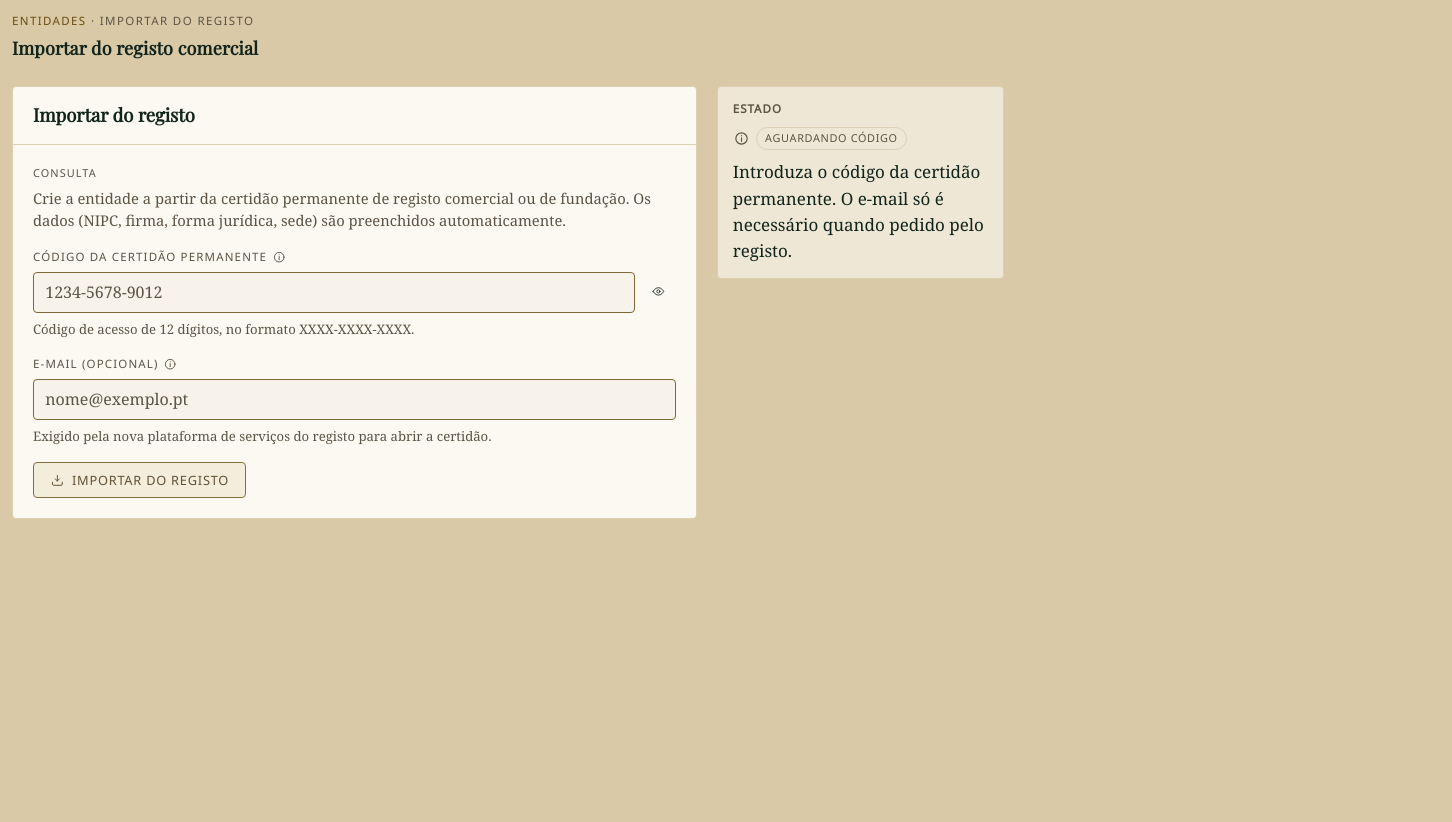
it: ImportEntityPage › surfaces a 502 upstream failure inline and via toast without navigating
Step 1. Type "1234-5678-9012" into the password field labelled "Código da certidão permanente" → (334, 292), box [33, 272, 635, 313]
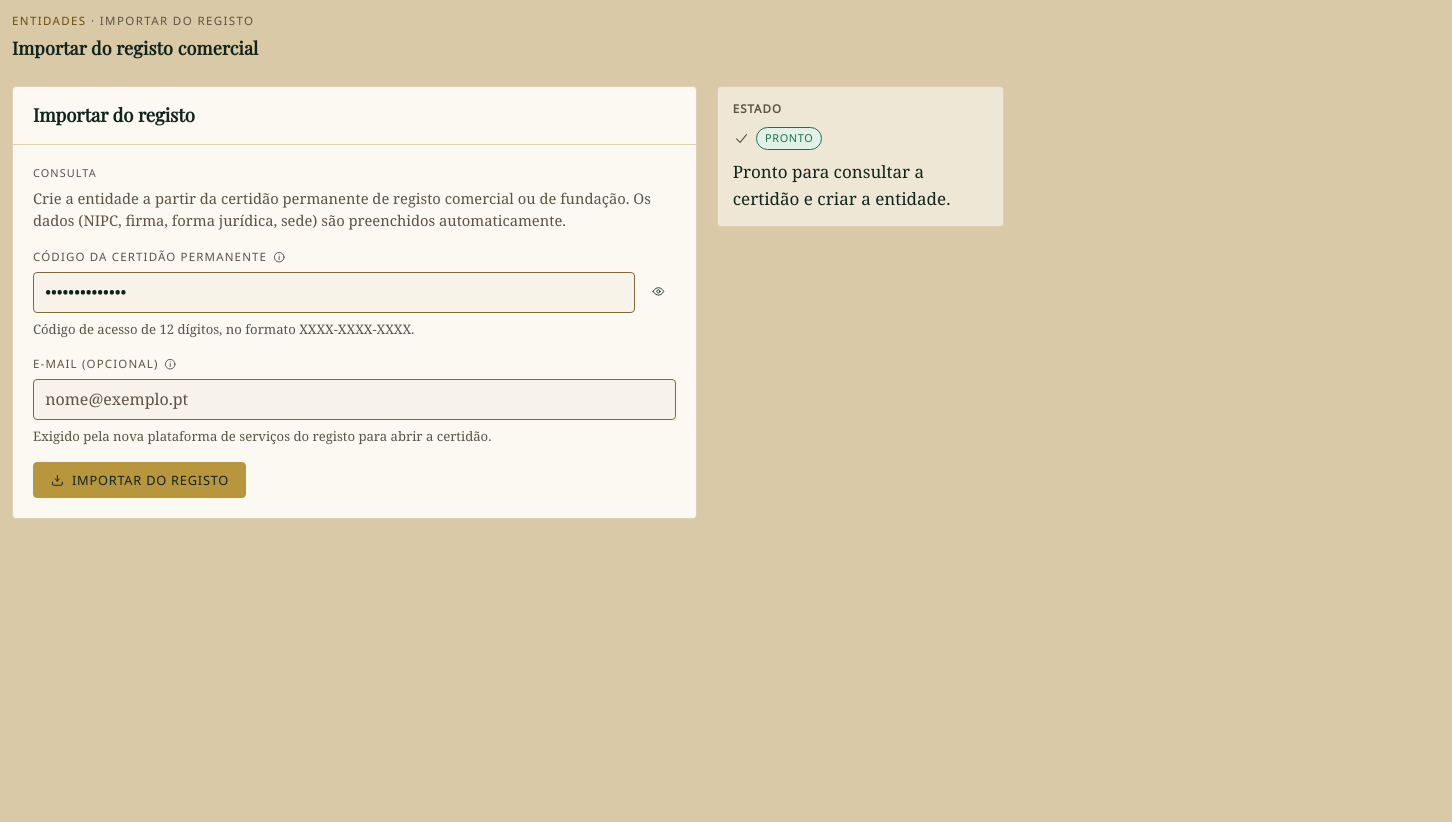
Step 2. Click the button "Importar do registo" → click(140, 480), box [33, 462, 246, 498]
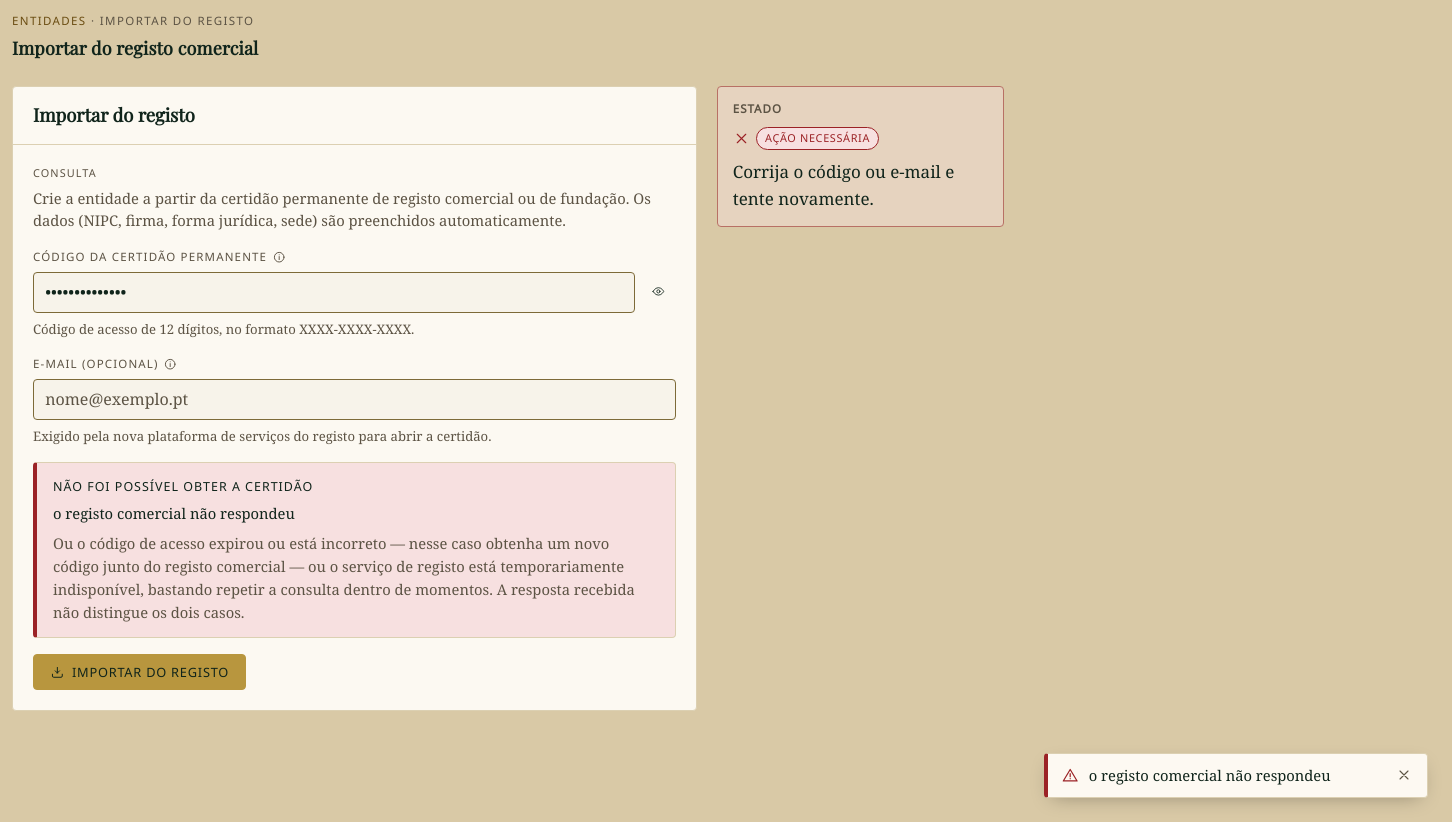
Check: the text "o registo comercial não respondeu" is shown 2 times, box [53, 503, 295, 523]; [1089, 765, 1331, 785]
Check: the text "Ação necessária" is shown, box [756, 127, 879, 150]
